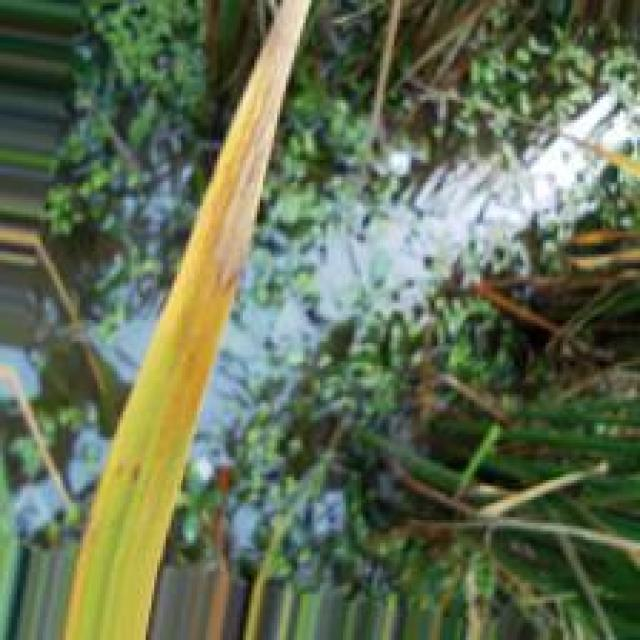Leaf_Scald: (212, 0, 318, 289)
